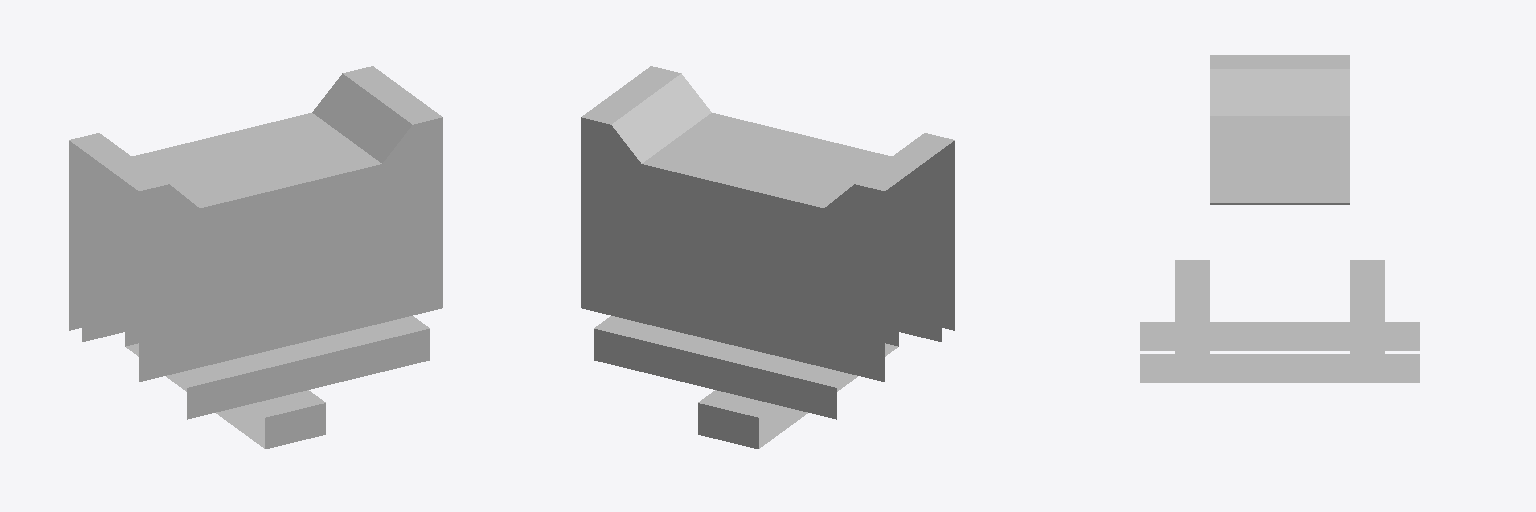
Rendered from pedestal_connector.obj.
3 renders of one model, left to right at view 1: azimuth 30°, elevation 25°; view 2: azimuth 150°, elevation 25°; view 3: azimuth 270°, elevation 25°, orthographic.
Parts seen in each view (by area): view 1: CALEFACTOR_PEDESTAL_CONNECTOR_Cube.003; view 2: CALEFACTOR_PEDESTAL_CONNECTOR_Cube.003; view 3: CALEFACTOR_PEDESTAL_CONNECTOR_Cube.003.
Part boxes in pixels (left/top/right/bottom): CALEFACTOR_PEDESTAL_CONNECTOR_Cube.003: left=69, top=66, right=442, bottom=448; CALEFACTOR_PEDESTAL_CONNECTOR_Cube.003: left=581, top=66, right=954, bottom=448; CALEFACTOR_PEDESTAL_CONNECTOR_Cube.003: left=1140, top=55, right=1419, bottom=382.
Bounding box in the file's own units: 0.625 × 0.5 × 0.5.